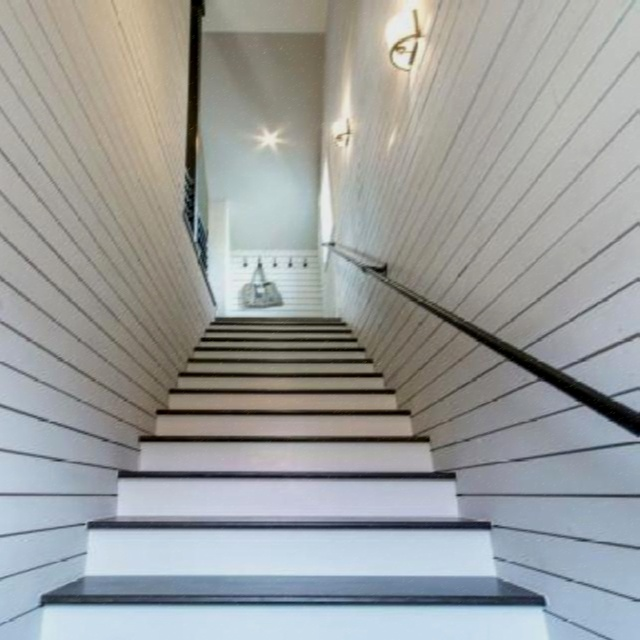stair: (27, 283, 604, 640)
